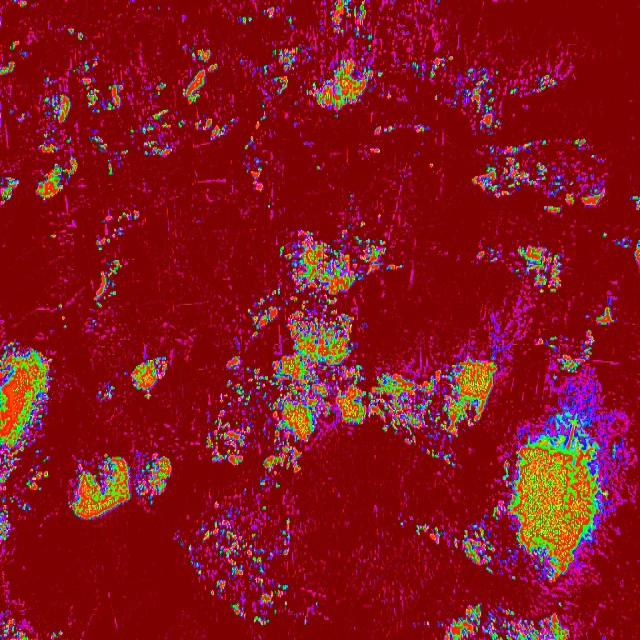fire: (200, 215, 514, 490), (34, 42, 237, 202), (511, 327, 627, 588), (173, 487, 322, 628), (238, 36, 311, 210), (0, 333, 54, 542), (472, 136, 609, 215), (305, 51, 455, 119), (397, 490, 513, 576), (455, 59, 557, 138), (67, 450, 173, 524), (86, 205, 142, 334), (413, 596, 572, 640), (320, 0, 382, 51), (515, 236, 565, 298), (125, 350, 169, 402), (0, 610, 67, 640), (371, 122, 430, 156), (0, 30, 28, 84), (583, 296, 620, 329), (627, 186, 640, 274), (261, 2, 301, 28), (1, 168, 23, 214), (595, 225, 628, 251), (93, 381, 119, 405), (54, 296, 70, 332), (5, 106, 27, 132), (9, 0, 43, 15), (67, 22, 86, 48), (42, 226, 62, 245), (236, 11, 256, 29), (316, 156, 326, 182), (425, 0, 448, 11), (177, 12, 190, 28)
